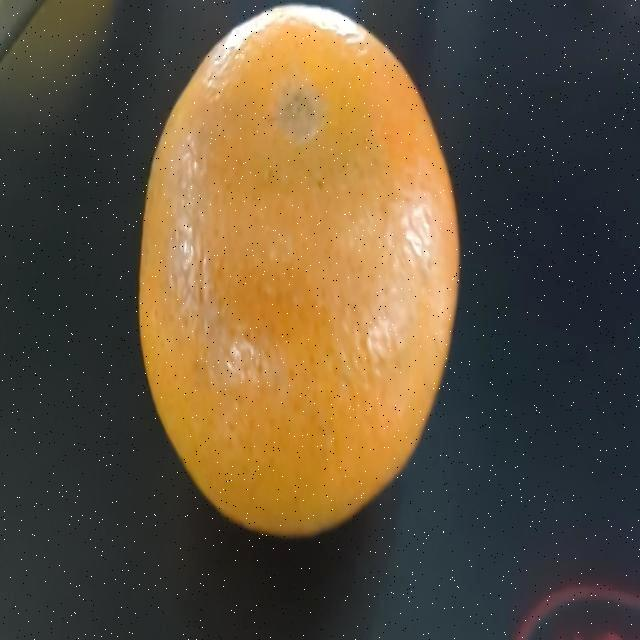Jeruk Mandarin: (140, 4, 460, 544)
